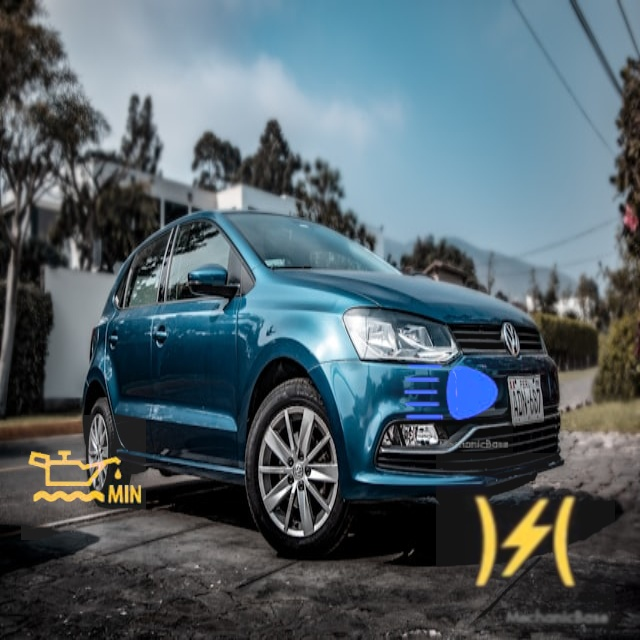symbol: (436, 453, 615, 632), (21, 415, 146, 540), (391, 332, 513, 454)
